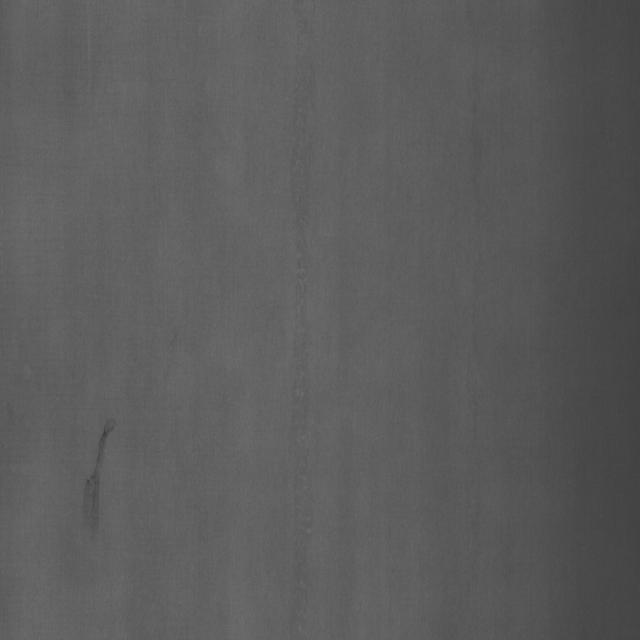water_spot: (68, 378, 129, 542)
